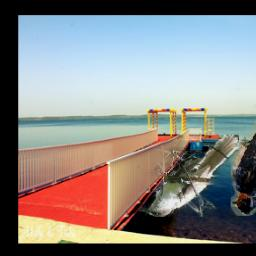Cuckoo: (140, 135, 240, 217)
Swallow: (232, 91, 256, 217)
